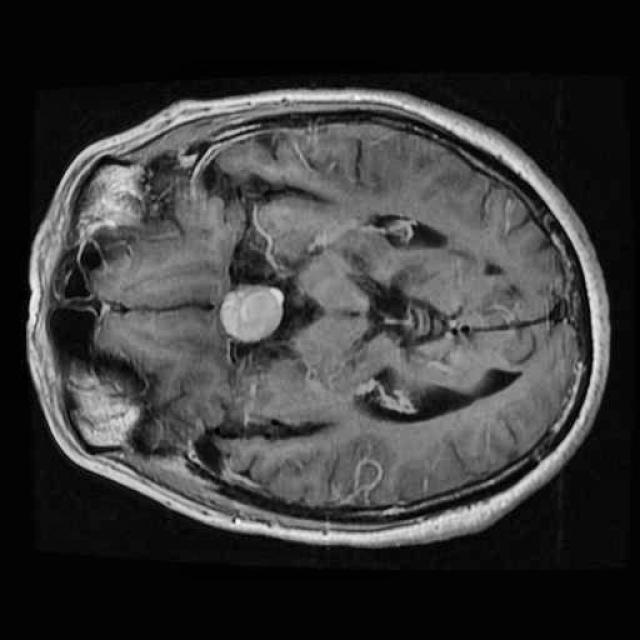Tumor: (204, 269, 298, 352)
